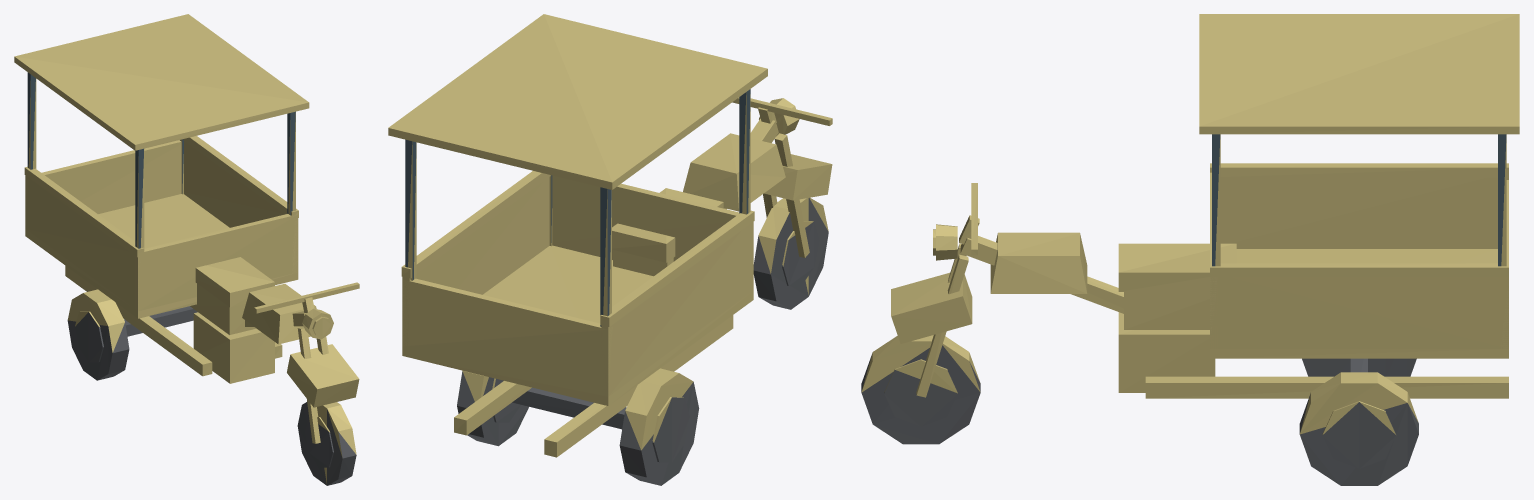
File: tricycle-cargo-00.glb
The picture shows the model from 3 angles, left to right: view 1: azimuth 30°, elevation 25°; view 2: azimuth 150°, elevation 25°; view 3: azimuth 270°, elevation 25°; orthographic projection. The views are drawn at different scales.
Visible parts, largest first — view 1: tricycle_cargo_00; view 2: tricycle_cargo_00; view 3: tricycle_cargo_00.
Part boxes in pixels (bbox=[...]): tricycle_cargo_00: bbox=[14, 14, 359, 485]; tricycle_cargo_00: bbox=[388, 14, 832, 485]; tricycle_cargo_00: bbox=[861, 14, 1519, 485].
Size of the model in its own units: 1.24 by 1.9 by 3.07.
